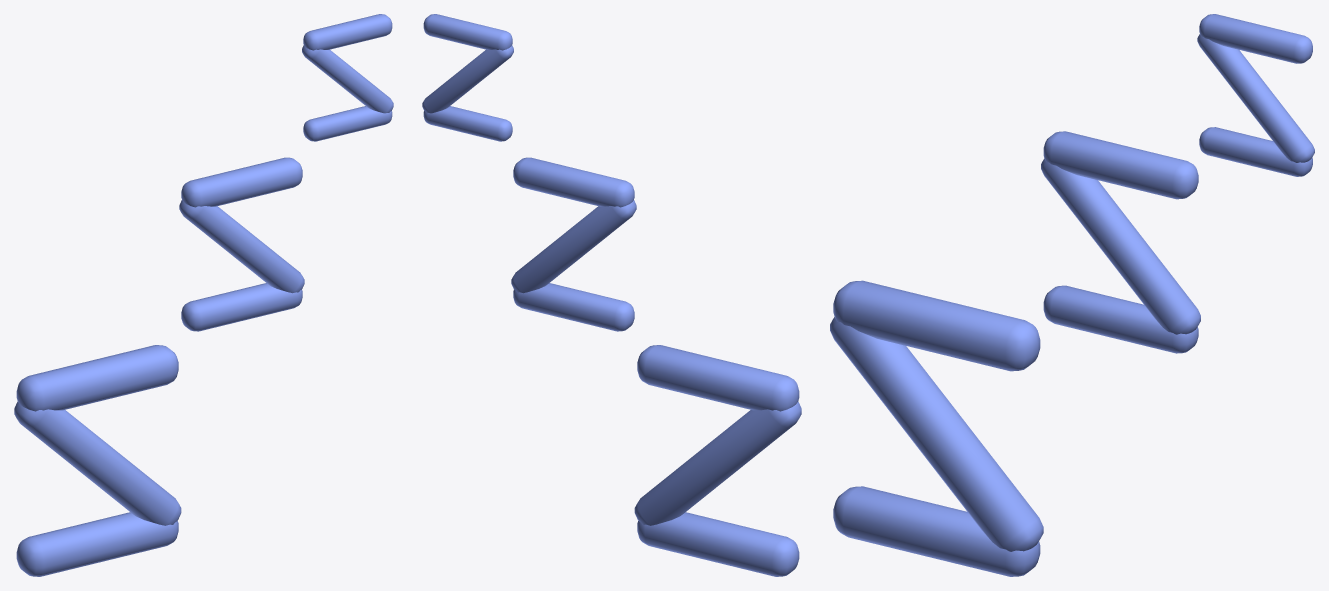
Rendered from icon_sleep.glb.
3 views of the same model, side by side, from view 1: azimuth 30°, elevation 25°; view 2: azimuth 150°, elevation 25°; view 3: azimuth 330°, elevation 25° (orthographic). The views are drawn at different scales.
Visible parts, largest first — view 1: icon_sleep; view 2: icon_sleep; view 3: icon_sleep.
Boxes of the visible parts, x1,y1,x2,y2 form: icon_sleep: (14,14,393,576); icon_sleep: (422,14,801,576); icon_sleep: (830,14,1314,576).
Size of the model in its own units: 0.3878 by 0.4711 by 0.035.
